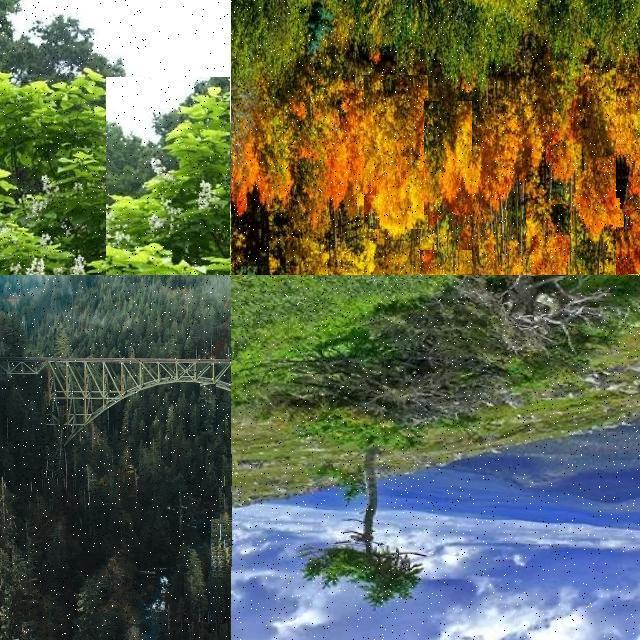tree: (0, 62, 232, 274), (106, 77, 230, 275), (304, 473, 430, 602), (364, 75, 428, 229), (424, 101, 472, 215), (578, 142, 630, 246), (476, 81, 516, 207), (526, 204, 570, 276), (616, 70, 640, 198), (330, 210, 374, 274), (620, 77, 640, 209), (211, 519, 231, 640), (18, 403, 42, 493), (42, 517, 66, 595), (184, 546, 208, 622), (82, 362, 106, 438), (213, 490, 231, 590), (476, 244, 520, 276), (46, 406, 64, 478), (420, 250, 472, 274), (616, 227, 640, 275), (0, 548, 12, 640), (624, 210, 640, 274), (175, 424, 193, 480), (218, 548, 230, 622), (172, 414, 188, 468), (118, 443, 134, 497), (220, 449, 232, 517), (148, 409, 164, 458), (200, 384, 216, 432), (218, 560, 230, 624), (220, 568, 232, 624), (218, 520, 230, 572), (41, 456, 54, 504), (220, 536, 232, 584), (220, 492, 232, 540), (54, 328, 72, 356), (221, 577, 231, 627), (122, 627, 158, 640), (197, 616, 216, 640), (219, 488, 231, 524), (223, 557, 231, 607), (222, 560, 230, 608), (204, 624, 228, 640), (224, 492, 232, 536), (222, 596, 230, 640), (224, 525, 232, 567), (224, 454, 232, 494), (224, 500, 232, 540), (223, 478, 231, 518), (223, 408, 231, 448), (222, 440, 230, 476), (224, 454, 232, 486), (221, 619, 232, 640), (225, 414, 231, 450), (185, 335, 195, 355), (128, 346, 136, 358), (226, 348, 230, 360), (228, 348, 232, 360)
